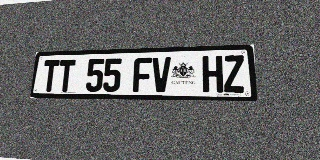5: (103, 58, 122, 92), (85, 59, 104, 92)
F: (133, 57, 152, 92)
H: (202, 56, 223, 92)
T: (57, 59, 76, 92), (41, 60, 60, 92)
V: (151, 57, 171, 92)
Z: (223, 55, 245, 93)
